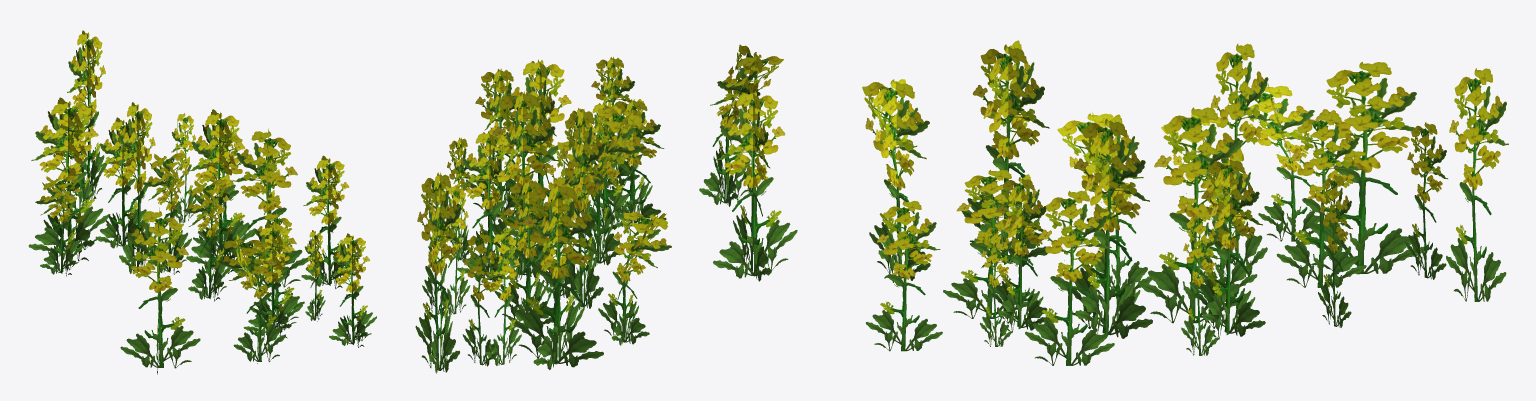
The model's file is DN_flower_01.FBX.
3 views of the same model, side by side, from view 1: azimuth 30°, elevation 25°; view 2: azimuth 150°, elevation 25°; view 3: azimuth 270°, elevation 25° (orthographic). The views are drawn at different scales.
Parts seen in each view (by area): view 1: DN_flower_01; view 2: DN_flower_01; view 3: DN_flower_01.
Part boxes in pixels (left/top/right/bottom): DN_flower_01: left=28, top=30, right=376, bottom=374; DN_flower_01: left=415, top=44, right=797, bottom=373; DN_flower_01: left=862, top=40, right=1508, bottom=365.
Size of the model in its own units: 217 by 147 by 335.
1 material, 1 textured.
